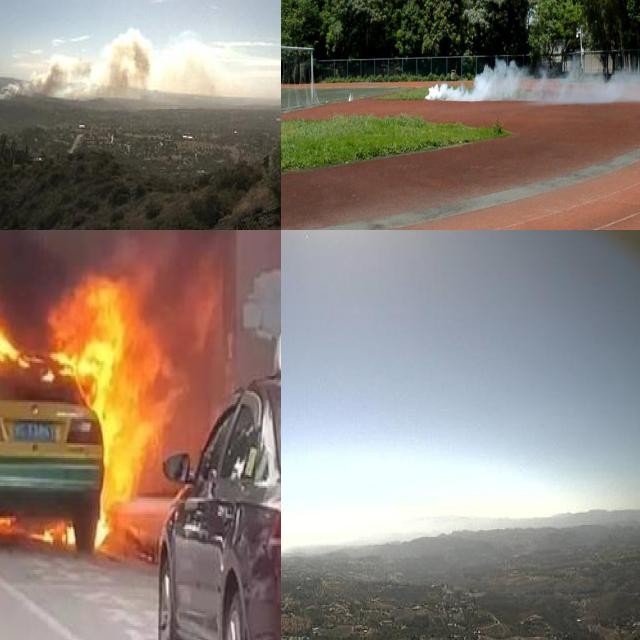fire: (0, 230, 146, 555)
smoke: (422, 0, 640, 102), (0, 21, 229, 105)
